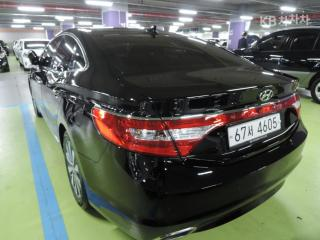0: (267, 118, 273, 131)
4: (257, 121, 263, 135)
5: (272, 116, 278, 129)
6: (233, 128, 241, 142), (263, 120, 268, 133)
7: (240, 126, 248, 139)
plate: (220, 110, 284, 148)
서: (247, 125, 254, 137)
